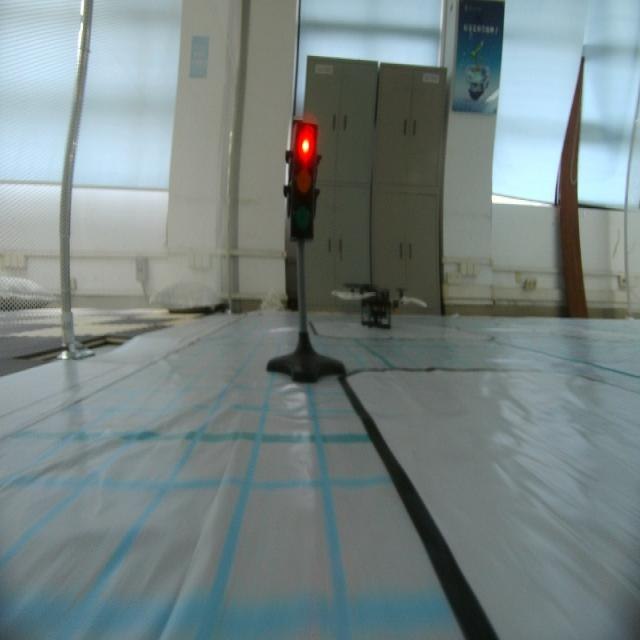red: (284, 115, 320, 251)
